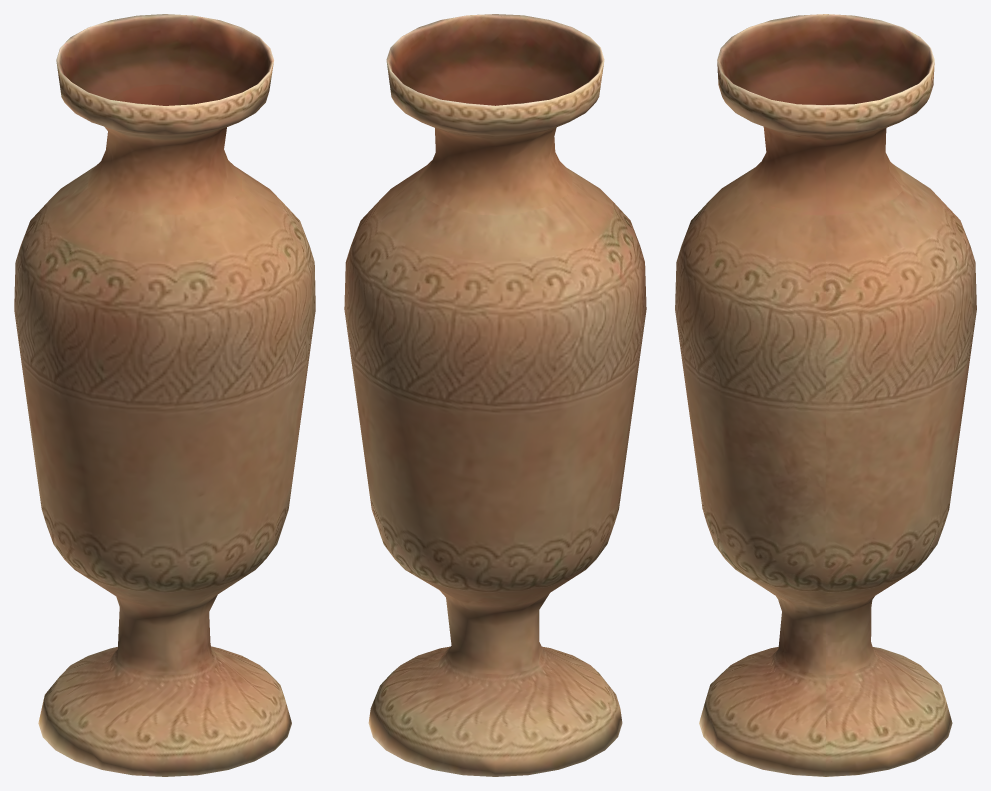
Rendered from brass_vase_03.glb.
The picture shows the model from 3 angles, left to right: view 1: azimuth 30°, elevation 25°; view 2: azimuth 150°, elevation 25°; view 3: azimuth 270°, elevation 25°; orthographic projection.
Parts seen in each view (by area): view 1: brass_vase_03; view 2: brass_vase_03; view 3: brass_vase_03.
Part boxes in pixels (x1,y1,x2,y2): brass_vase_03: (14,14,315,776); brass_vase_03: (344,14,646,776); brass_vase_03: (675,14,976,776).
Size of the model in its own units: 0.0825 by 0.2004 by 0.0825.
Materials: 1 (1 with a texture image).
